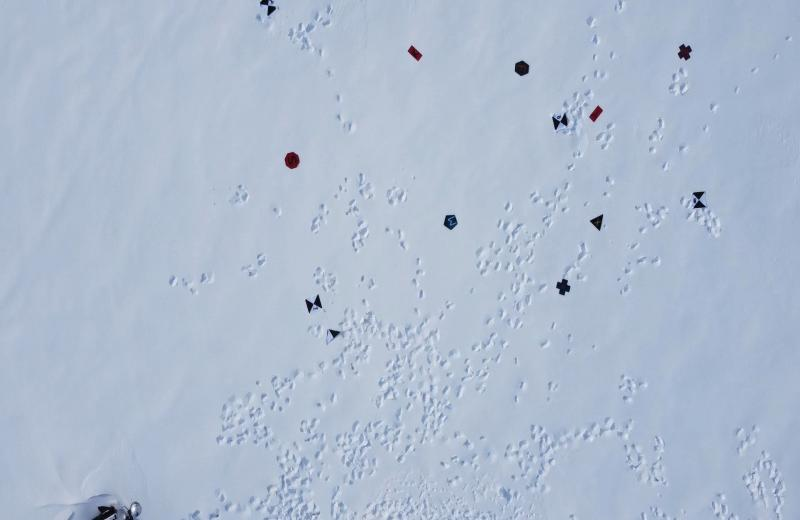Cross: (676, 42, 692, 62), (556, 277, 572, 296)
Hexagon: (513, 60, 530, 76)
Octagon: (284, 150, 300, 168)
Pentagon: (442, 212, 460, 231)
Rectangle: (406, 44, 425, 62), (588, 105, 604, 121)
Triangle: (589, 215, 606, 232)
